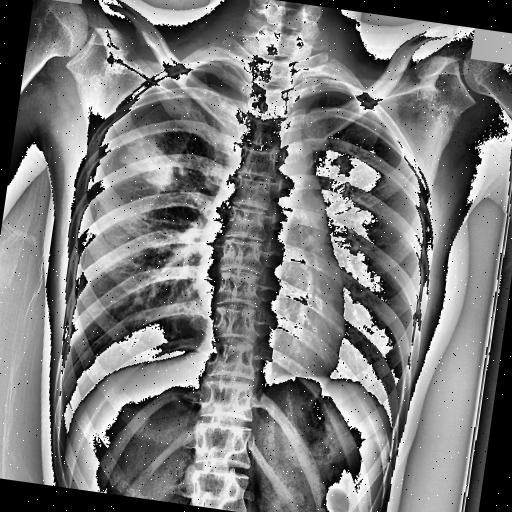11- Pleural thickening: (296, 66, 334, 86)
12- Pneumothorax: (60, 42, 249, 352), (53, 36, 252, 310), (70, 51, 230, 319)
13- Pulmonary fibrosis: (120, 130, 178, 192)
4- Consolidation: (118, 133, 180, 187)
7- Lung Opacity: (122, 128, 185, 193)
9- Other lesion: (122, 128, 185, 193), (44, 379, 84, 471)
